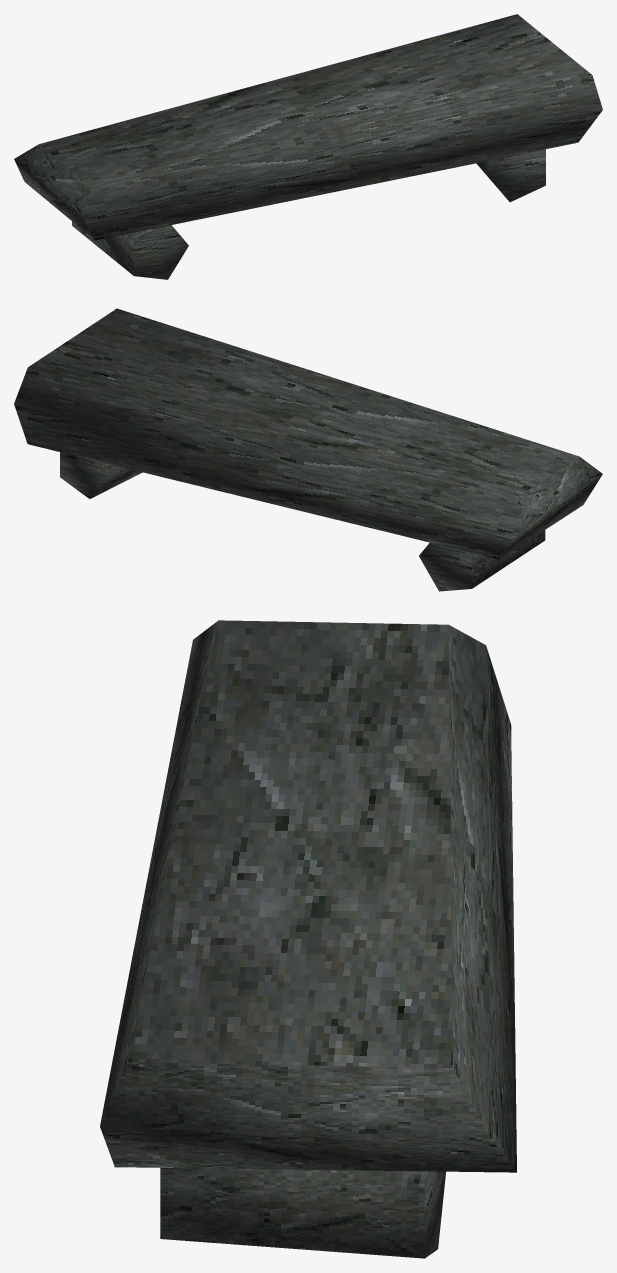
Rendered from STONEBENCH_ACTORDEF.fbx.
3 views of the same model, one above another, from view 1: azimuth 30°, elevation 25°; view 2: azimuth 150°, elevation 25°; view 3: azimuth 270°, elevation 25° (orthographic). The views are drawn at different scales.
Visible parts, largest first — view 1: U3DMesh; view 2: U3DMesh; view 3: U3DMesh.
Boxes of the visible parts, box(x1,y1,x2,y2) form: U3DMesh: box(14, 14, 602, 279); U3DMesh: box(14, 308, 602, 591); U3DMesh: box(100, 620, 516, 1258).
Size of the model in its own units: 11.46 by 2.57 by 4.1.
